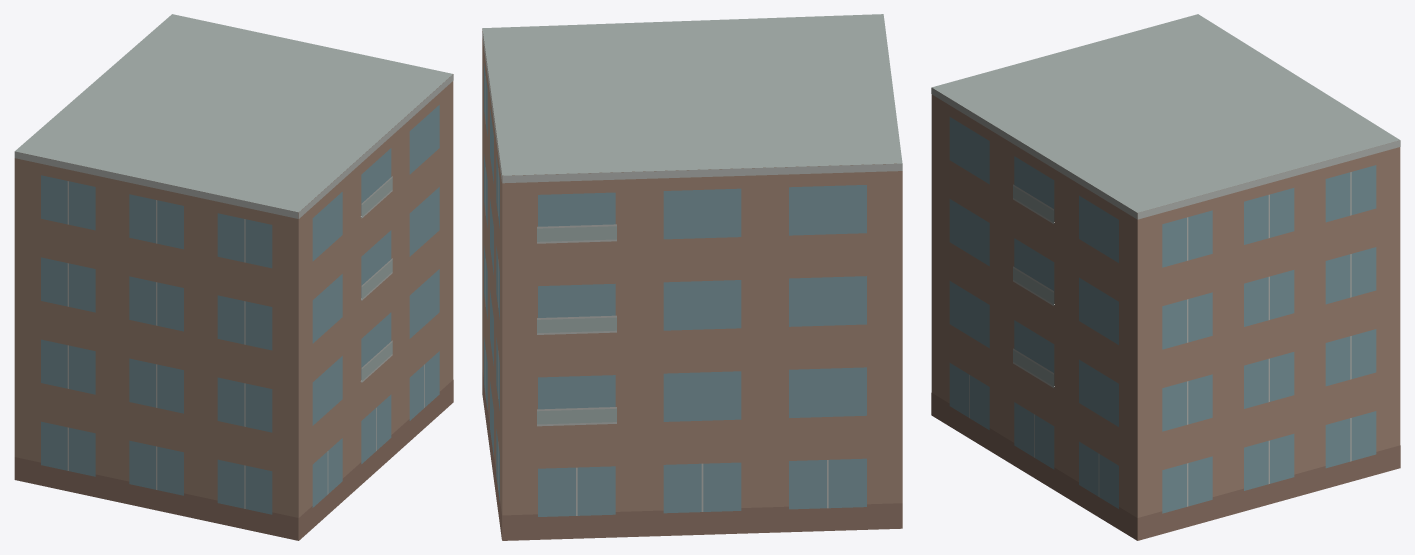
Rendered from survey-upis-33034990.glb.
3 views of the same model, side by side, from view 1: azimuth 30°, elevation 25°; view 2: azimuth 150°, elevation 25°; view 3: azimuth 270°, elevation 25° (orthographic). The views are drawn at different scales.
Visible parts, largest first — view 1: survey-upis-33034990.tmp; view 2: survey-upis-33034990.tmp; view 3: survey-upis-33034990.tmp.
Boxes of the visible parts, <box> form: survey-upis-33034990.tmp: <box>14,14,453,540</box>; survey-upis-33034990.tmp: <box>482,14,902,540</box>; survey-upis-33034990.tmp: <box>931,14,1400,540</box>.
Bounding box in the file's own units: 15.48 × 11.89 × 15.42.
